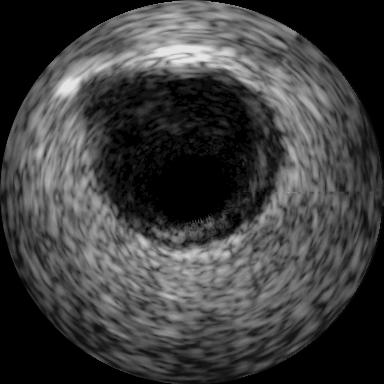Lumen: (151, 150, 240, 222)
